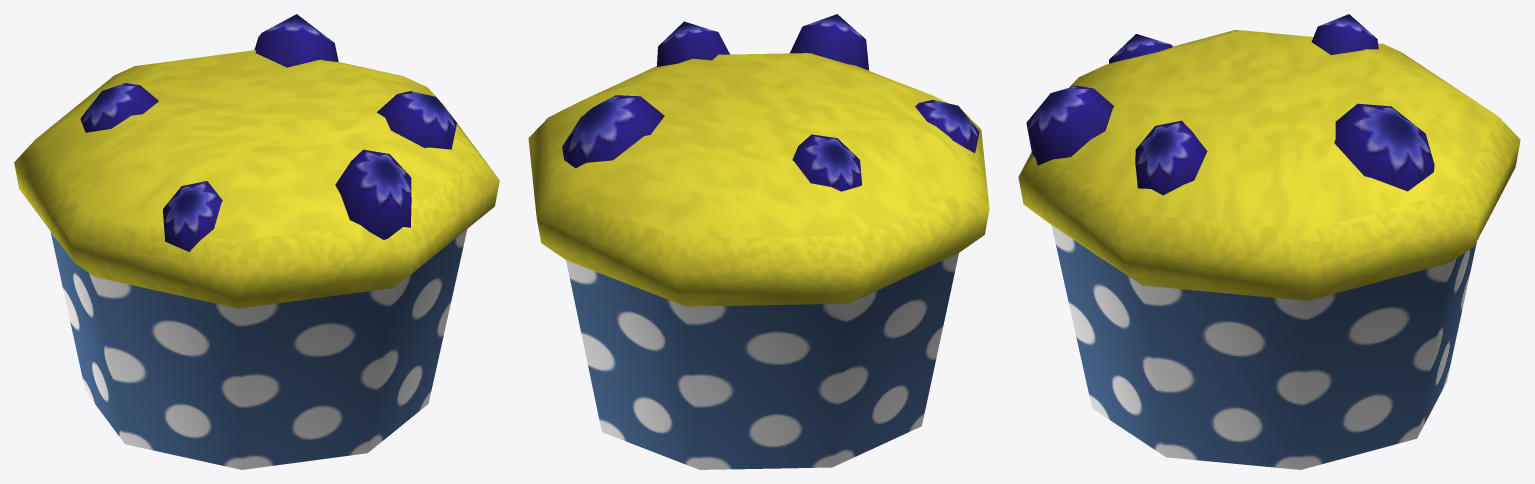
The model's file is Muffin_A_03.FBX.
The picture shows the model from 3 angles, left to right: view 1: azimuth 30°, elevation 25°; view 2: azimuth 150°, elevation 25°; view 3: azimuth 270°, elevation 25°; orthographic projection. The views are drawn at different scales.
Visible parts, largest first — view 1: Muffin; view 2: Muffin; view 3: Muffin.
Boxes of the visible parts, box(x1,y1,x2,y2) form: Muffin: box(14, 14, 499, 469); Muffin: box(528, 14, 989, 469); Muffin: box(1018, 14, 1520, 469).
Bounding box in the file's own units: 36.61 × 26.52 × 36.61.
